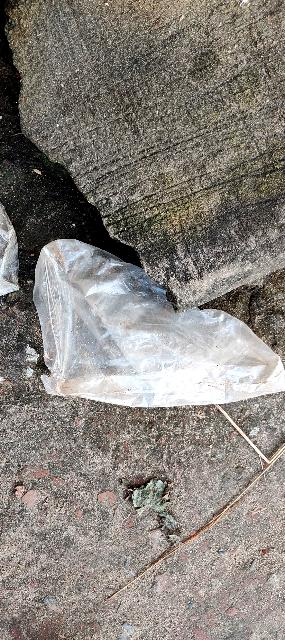polythene: (30, 228, 285, 411)
